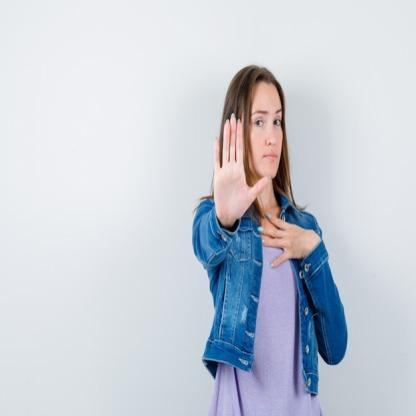stop: (211, 112, 272, 232)
